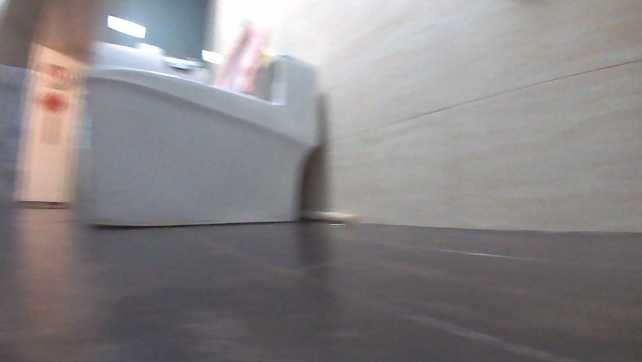toilet: (75, 52, 326, 229)
